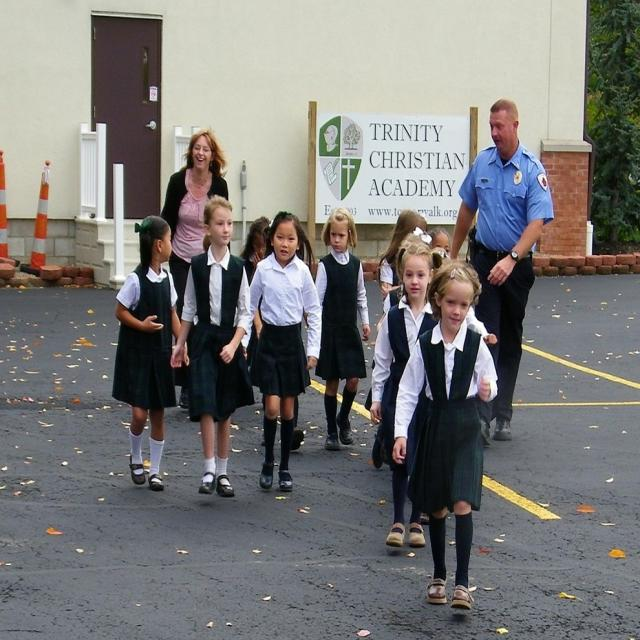body: (390, 258, 499, 614), (448, 98, 555, 442), (168, 190, 254, 500), (405, 245, 499, 524), (367, 228, 444, 551), (244, 206, 324, 494), (111, 214, 190, 493), (159, 125, 230, 410), (304, 204, 373, 453), (377, 208, 429, 300), (256, 388, 308, 458), (238, 214, 271, 288), (427, 225, 452, 260)
